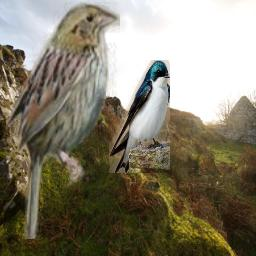Crow: (14, 91, 46, 137)
Sparrow: (6, 1, 120, 239)
Swallow: (109, 60, 170, 173)
